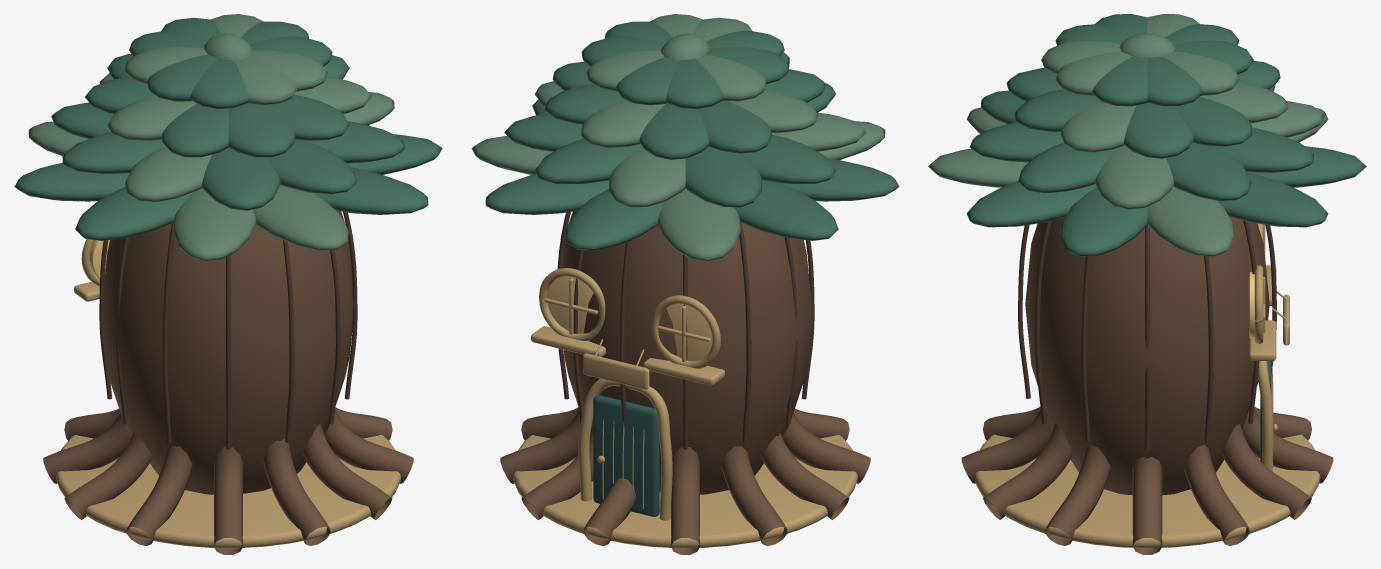
File: workshop.glb
The picture shows the model from 3 angles, left to right: view 1: azimuth 30°, elevation 25°; view 2: azimuth 150°, elevation 25°; view 3: azimuth 270°, elevation 25°; orthographic projection.
Visible parts, largest first — view 1: Écorce, Feuilles, Feuilles claires, Bois coupé, Veines; view 2: Écorce, Feuilles, Feuilles claires, Bois coupé, Porte, Veines, Fenêtres; view 3: Écorce, Feuilles, Feuilles claires, Bois coupé, Veines.
Boxes of the visible parts, x1=… form: Écorce: x1=43, y1=187, x2=413, y2=554; Feuilles: x1=14, y1=17, x2=442, y2=240; Feuilles claires: x1=28, y1=14, x2=394, y2=261; Bois coupé: x1=56, y1=239, x2=400, y2=548; Veines: x1=99, y1=212, x2=357, y2=449; Écorce: x1=500, y1=188, x2=870, y2=554; Feuilles: x1=485, y1=21, x2=899, y2=250; Feuilles claires: x1=471, y1=14, x2=885, y2=261; Bois coupé: x1=513, y1=268, x2=857, y2=548; Porte: x1=593, y1=395, x2=659, y2=516; Veines: x1=557, y1=212, x2=814, y2=449; Fenêtres: x1=547, y1=276, x2=712, y2=360; Écorce: x1=961, y1=186, x2=1333, y2=554; Feuilles: x1=966, y1=14, x2=1366, y2=256; Feuilles claires: x1=928, y1=14, x2=1328, y2=256; Bois coupé: x1=974, y1=223, x2=1320, y2=548; Veines: x1=1018, y1=220, x2=1276, y2=449.
Bounding box in the file's own units: 7.68 × 9.45 × 8.08.
